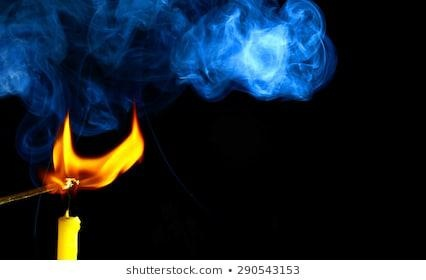fire: (43, 102, 145, 191)
